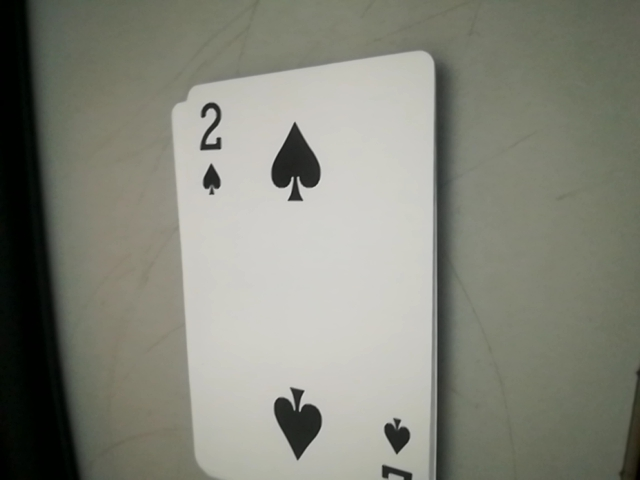ht 2: (184, 93, 244, 206)
